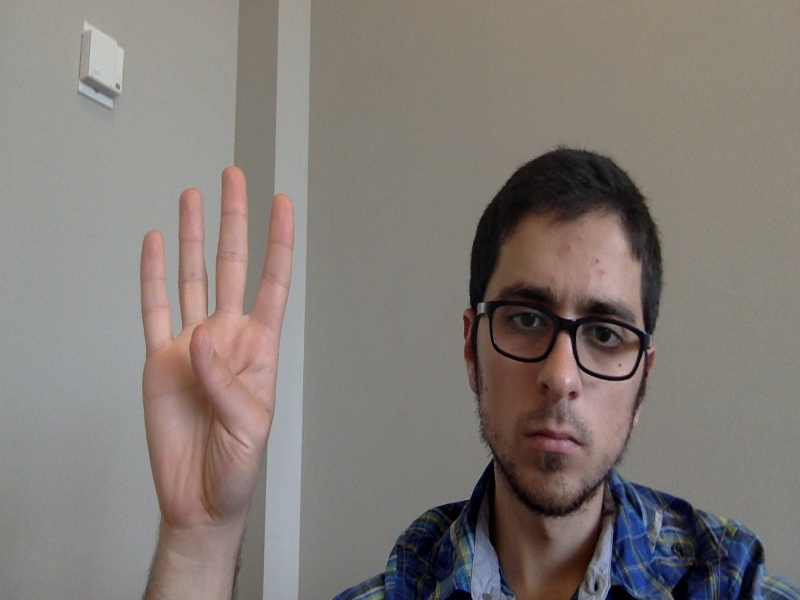4-hand: (139, 165, 295, 535)
